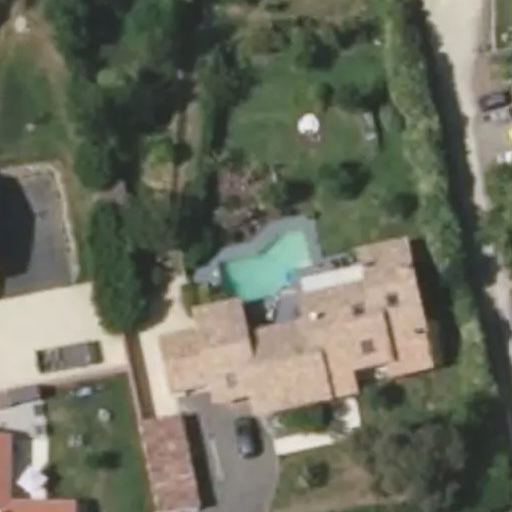pool: (205, 221, 308, 262)
